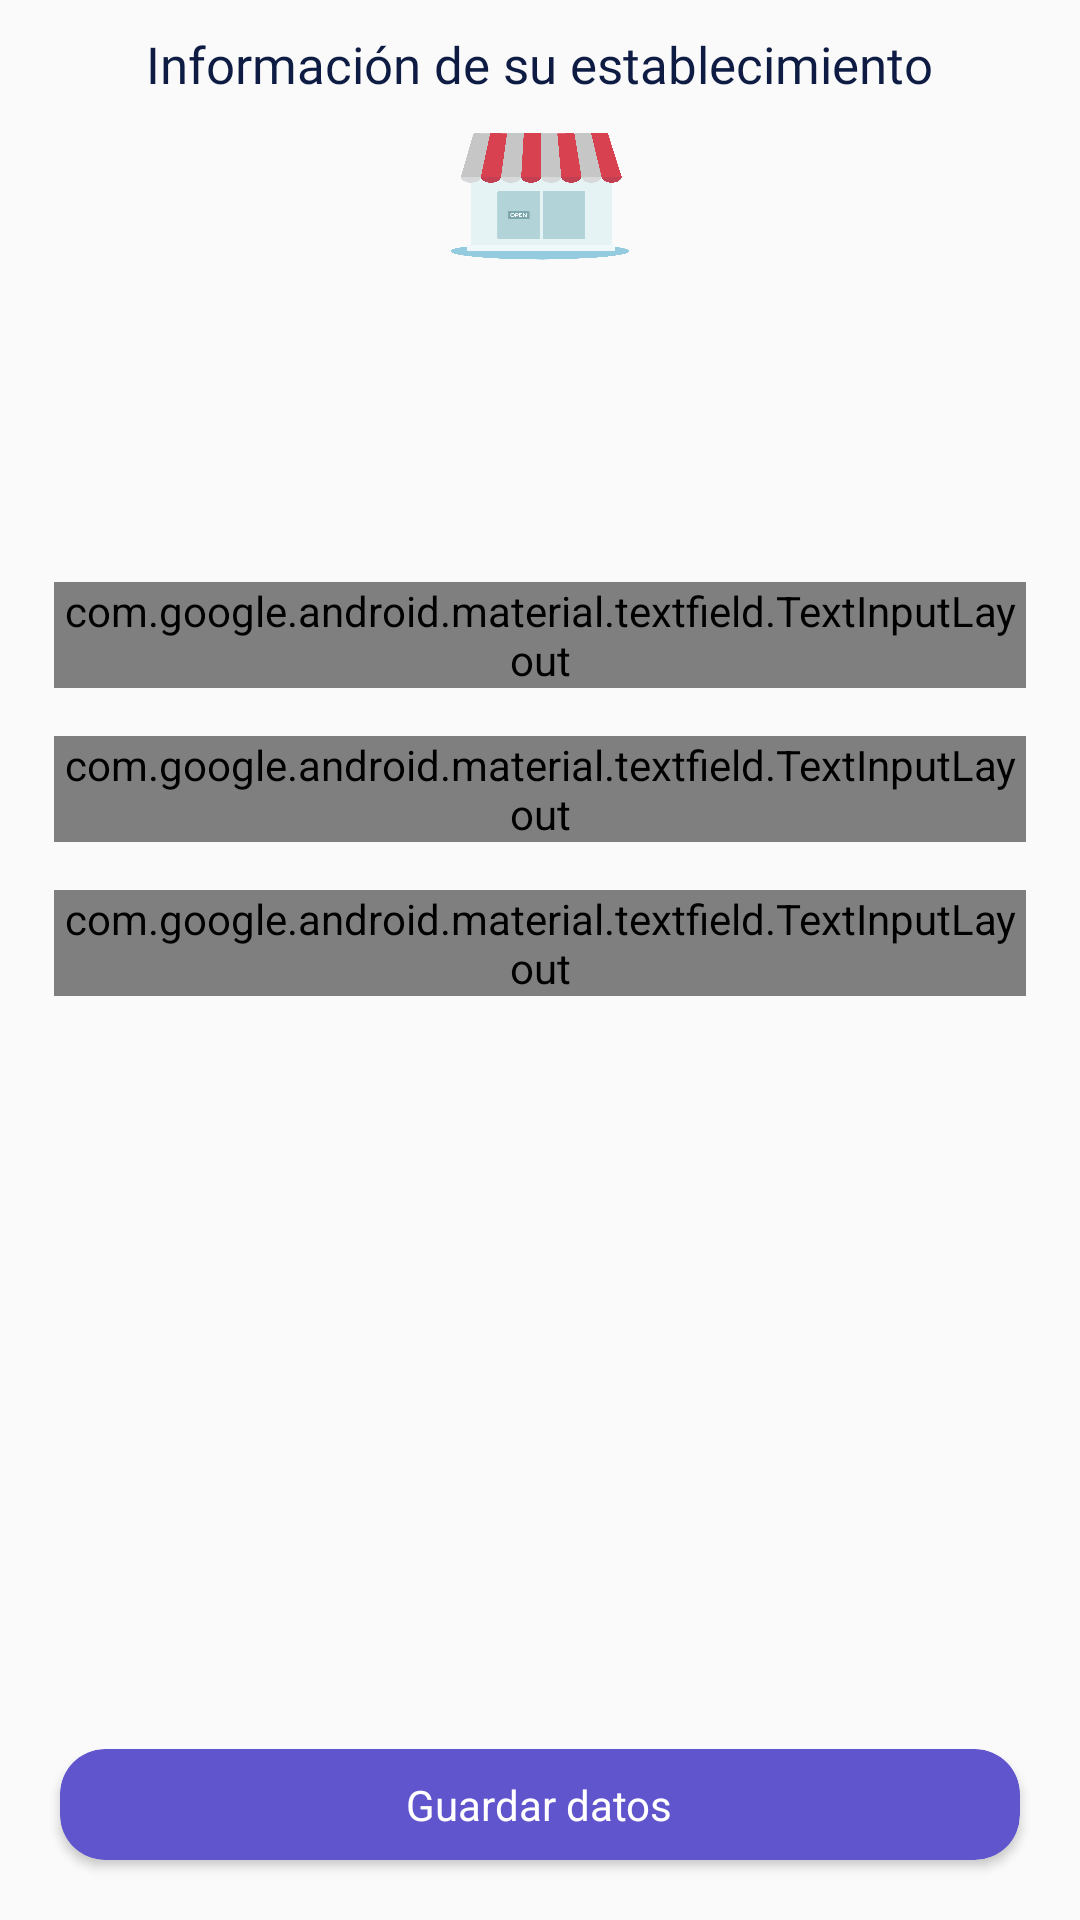

Named icons in this screenshot (1080x1920) and their centers, (x,y):
store: (540,196)
